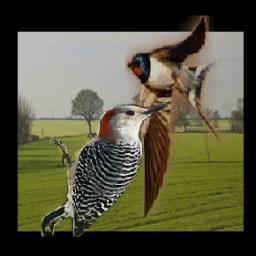Swallow: (125, 15, 242, 217)
Woodpecker: (41, 102, 171, 237)
